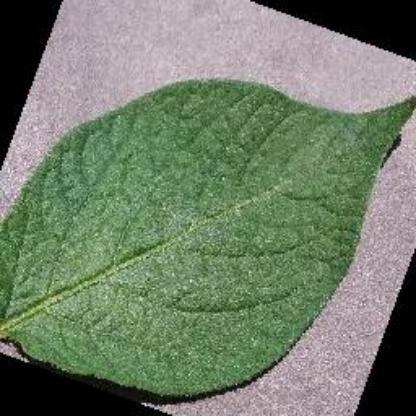Healthy-plant: (0, 83, 416, 396)
